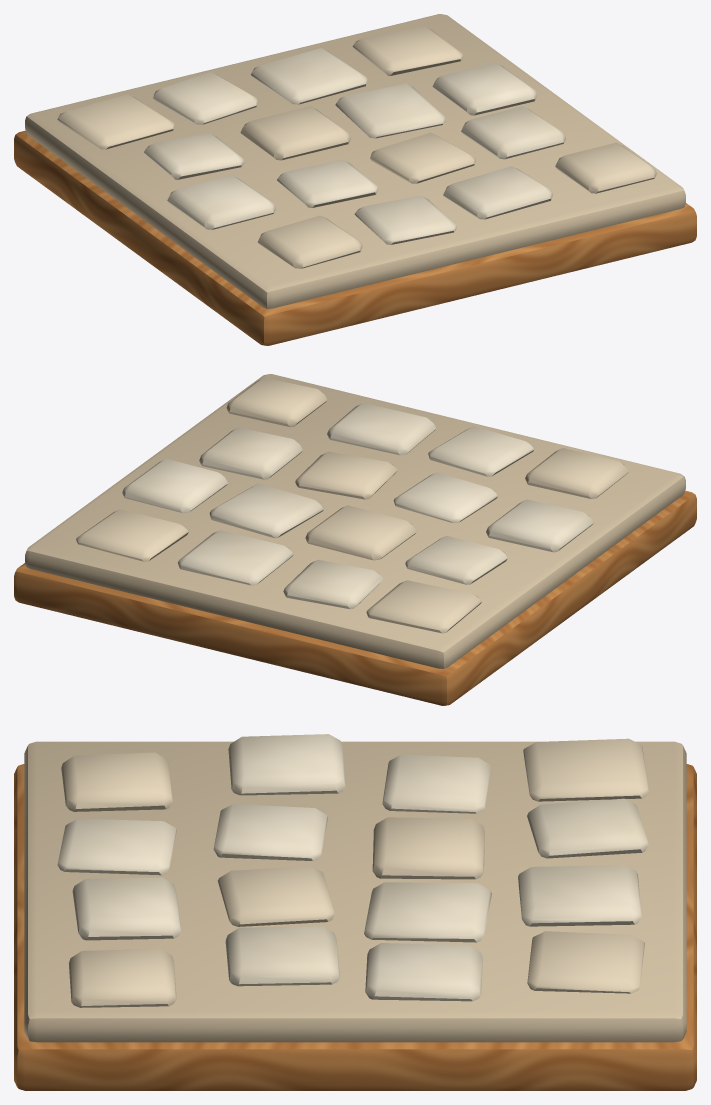
File: tuile_chemin.glb
The picture shows the model from 3 angles, top to bottom: view 1: azimuth 30°, elevation 25°; view 2: azimuth 150°, elevation 25°; view 3: azimuth 270°, elevation 25°; orthographic projection. The views are drawn at different scales.
Visible parts, largest first — view 1: tuile_chemin; view 2: tuile_chemin; view 3: tuile_chemin.
Part boxes in pixels (left/top/right/bottom): tuile_chemin: left=14, top=14, right=696, bottom=345; tuile_chemin: left=14, top=374, right=696, bottom=705; tuile_chemin: left=14, top=734, right=696, bottom=1090.
Size of the model in its own units: 1.96 by 0.2958 by 1.96.
4 materials, 2 textured.
